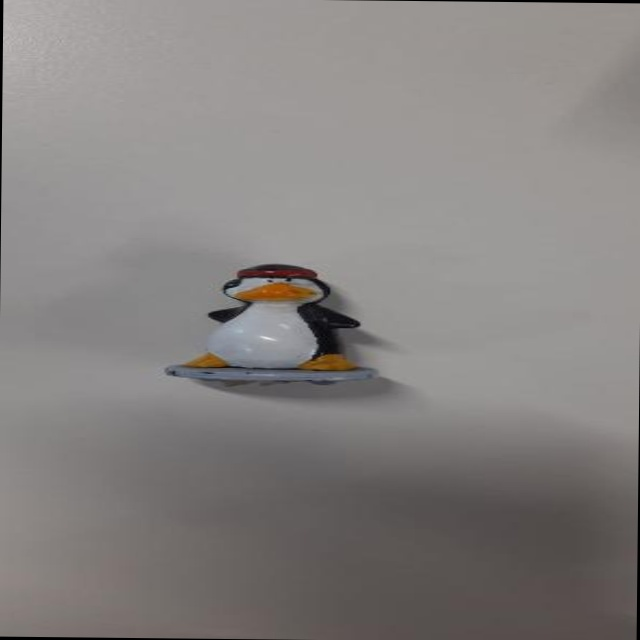Penguin: (139, 224, 403, 403)
